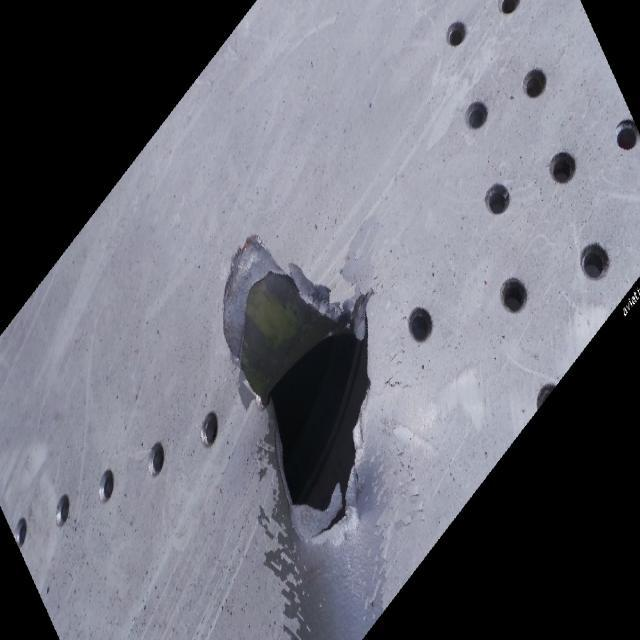crack: (218, 233, 380, 548)
